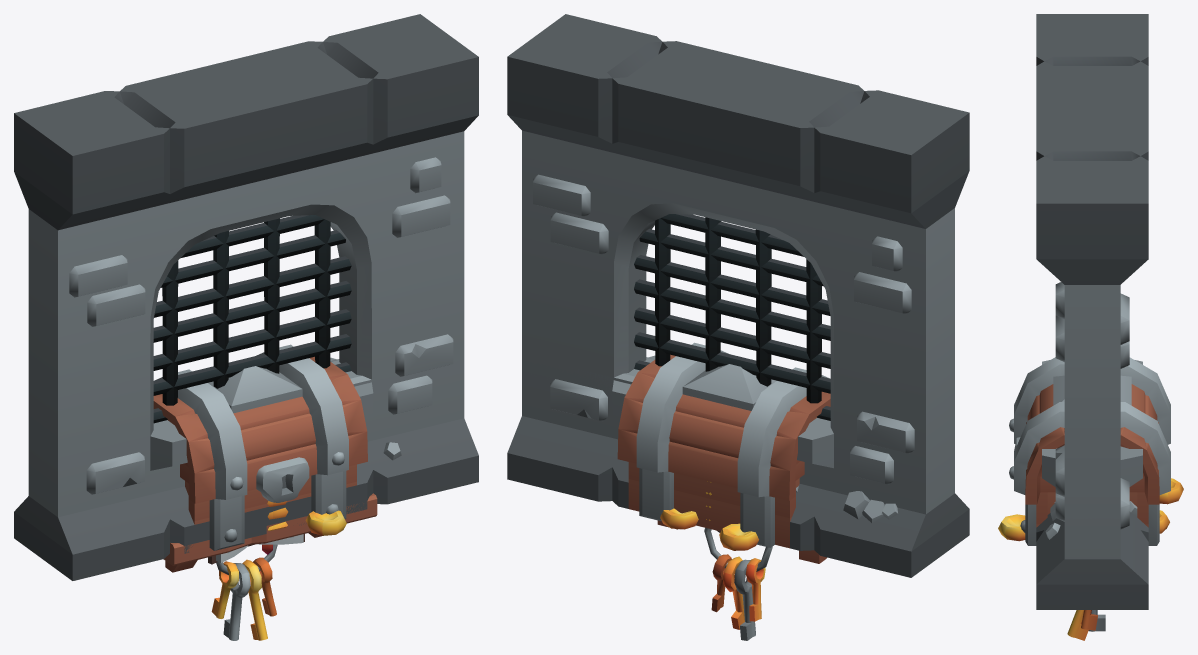
File: holding-bank.glb
The picture shows the model from 3 angles, left to right: view 1: azimuth 30°, elevation 25°; view 2: azimuth 150°, elevation 25°; view 3: azimuth 270°, elevation 25°; orthographic projection. The views are drawn at different scales.
Visible parts, largest first — view 1: wall_gated, wall_archedwindow_gated, chest_gold_lid, chest_gold, keyring_hanging, shelf_large, column, coin_stack_large; view 2: wall_gated, wall_archedwindow_gated, chest_gold_lid, chest_gold, keyring_hanging, column, coin_stack_large, barrier_half; view 3: wall_gated, wall_archedwindow_gated, chest_gold_lid, chest_gold, coin_stack_large, keyring_hanging, column.
Part boxes in pixels (x1,y1,x2,y2): wall_gated: (14, 14, 478, 580); wall_archedwindow_gated: (28, 131, 464, 516); chest_gold_lid: (153, 344, 367, 503); chest_gold: (185, 464, 356, 550); keyring_hanging: (211, 544, 277, 640); shelf_large: (163, 493, 377, 572); column: (208, 366, 302, 413); coin_stack_large: (267, 501, 346, 535); wall_gated: (507, 14, 969, 577); wall_archedwindow_gated: (522, 131, 954, 523); chest_gold_lid: (617, 342, 830, 500); chest_gold: (628, 462, 799, 548); keyring_hanging: (704, 527, 772, 640); column: (682, 364, 776, 410); coin_stack_large: (660, 482, 758, 550); barrier_half: (524, 356, 654, 395); wall_gated: (1036, 14, 1148, 609); wall_archedwindow_gated: (1042, 282, 1142, 559); chest_gold_lid: (1009, 357, 1170, 504); chest_gold: (1020, 492, 1159, 545); coin_stack_large: (998, 478, 1183, 541); keyring_hanging: (1067, 610, 1105, 640); column: (1053, 375, 1131, 405).
Size of the model in its own units: 4 by 5.2 by 1.66.
3 materials, 3 textured.
